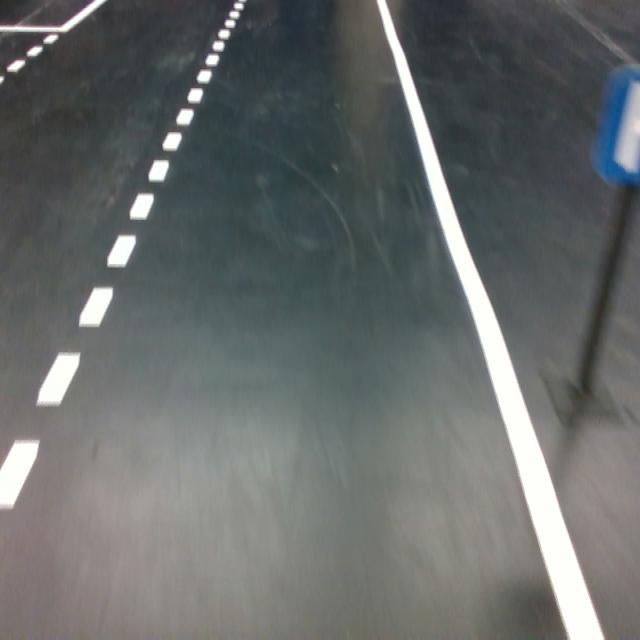parking-sign: (586, 61, 640, 191)
